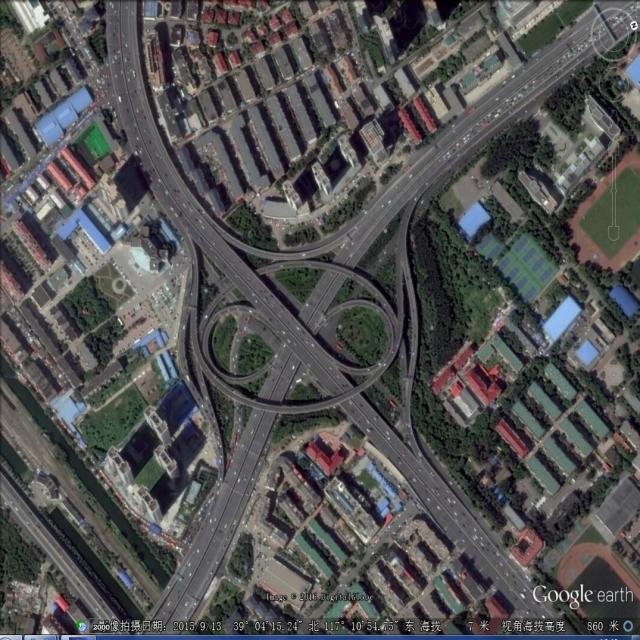overpass: (174, 191, 435, 496)
